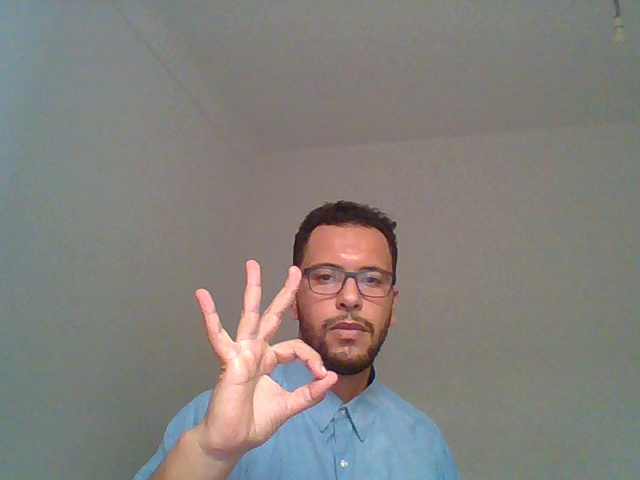okay: (181, 254, 336, 457)
